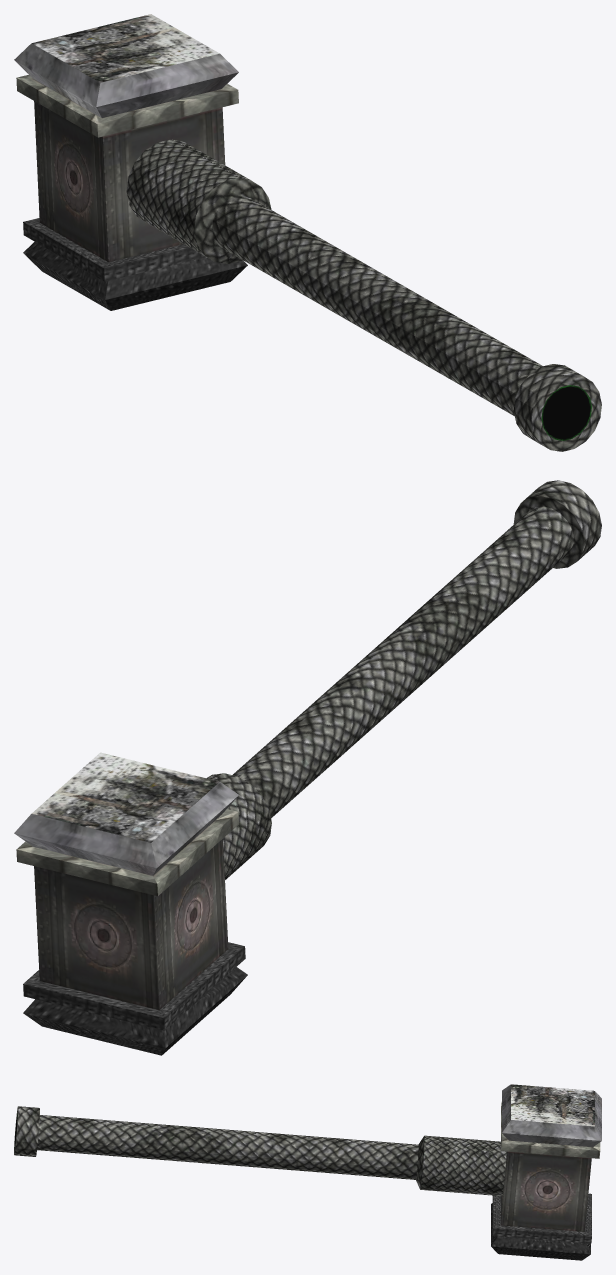
The model's file is Hammer_plus.fbx.
The picture shows the model from 3 angles, top to bottom: view 1: azimuth 30°, elevation 25°; view 2: azimuth 150°, elevation 25°; view 3: azimuth 270°, elevation 25°; orthographic projection. The views are drawn at different scales.
Visible parts, largest first — view 1: Hammer_Plus; view 2: Hammer_Plus; view 3: Hammer_Plus.
Part boxes in pixels (left/top/right/bottom): Hammer_Plus: left=14, top=14, right=601, bottom=451; Hammer_Plus: left=14, top=480, right=601, bottom=1055; Hammer_Plus: left=14, top=1084, right=601, bottom=1260.
Size of the model in its own units: 171 by 265 by 1002.
Materials: 1 (1 with a texture image).
